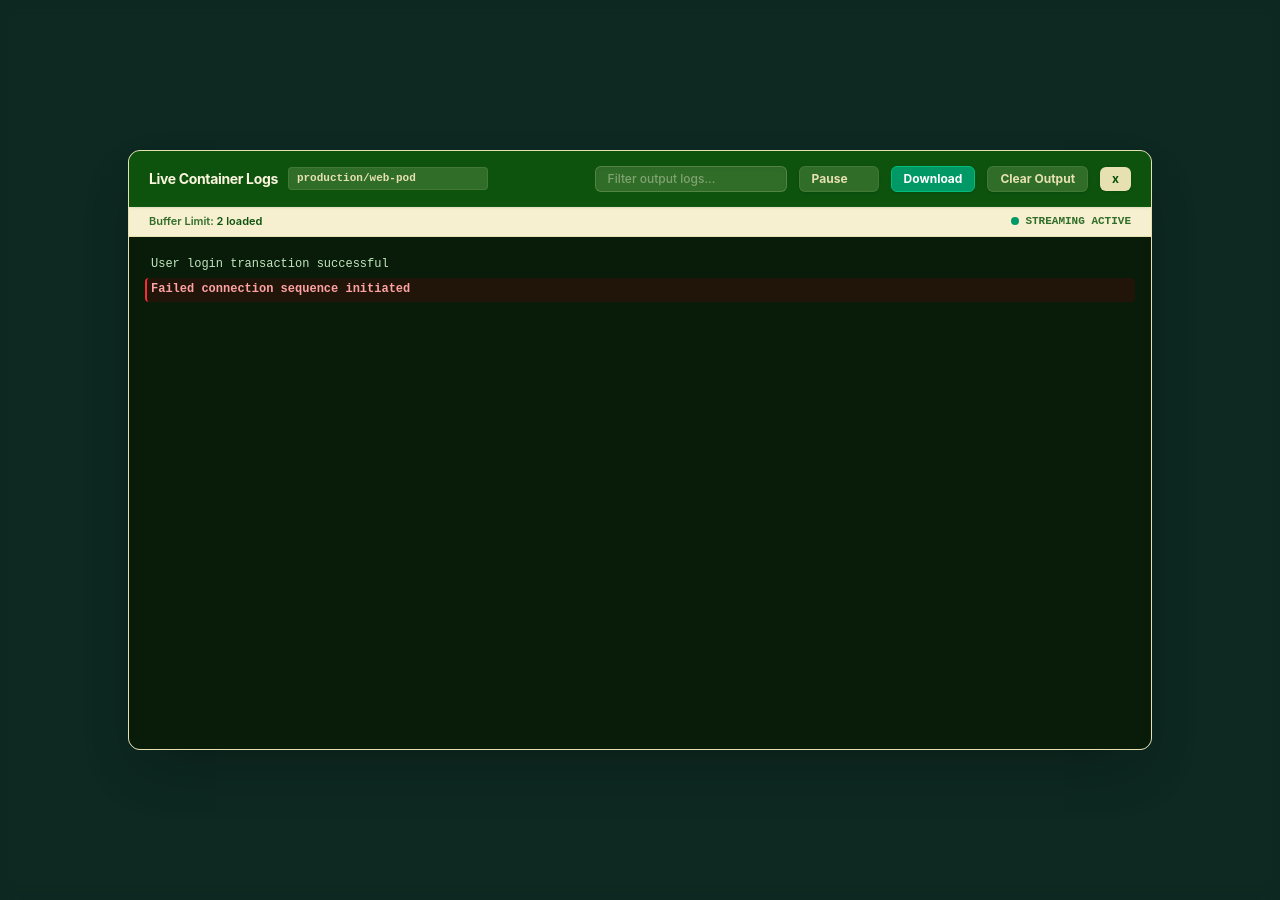
Scenario: LogStreamModal Component › filters logs, highlights keywords, and clears console state buffers
The width and height of the screenshot is (1280, 900).
// type filter phrase
Type "failed" into the field with placeholder "Filter output logs..." at (691, 179), box x1=595 y1=166 x2=787 y2=192
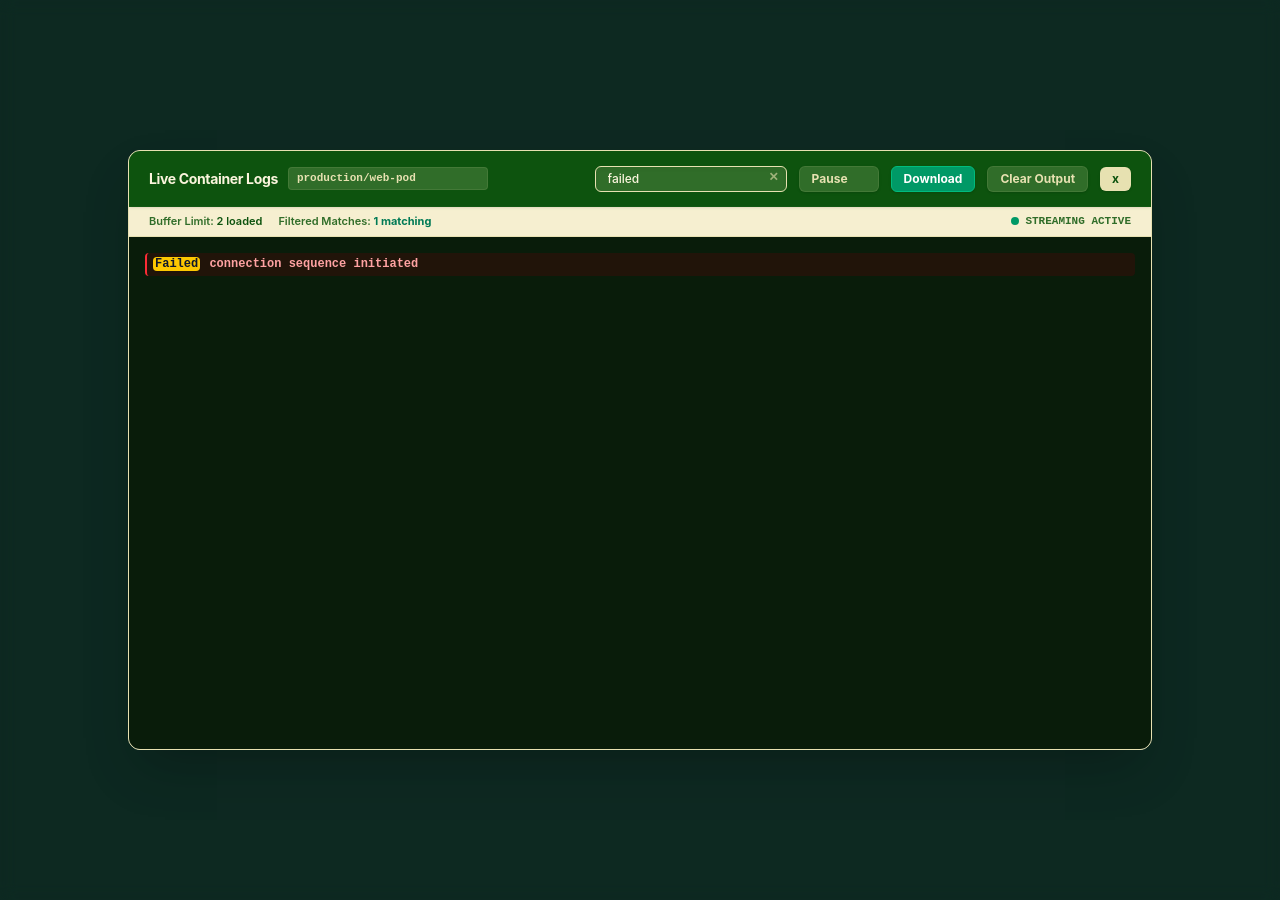
Expected: the text "User login transaction successful" is gone
// click Clear Output
Click the button "Clear Output" at (1038, 178), box x1=987 y1=166 x2=1088 y2=192
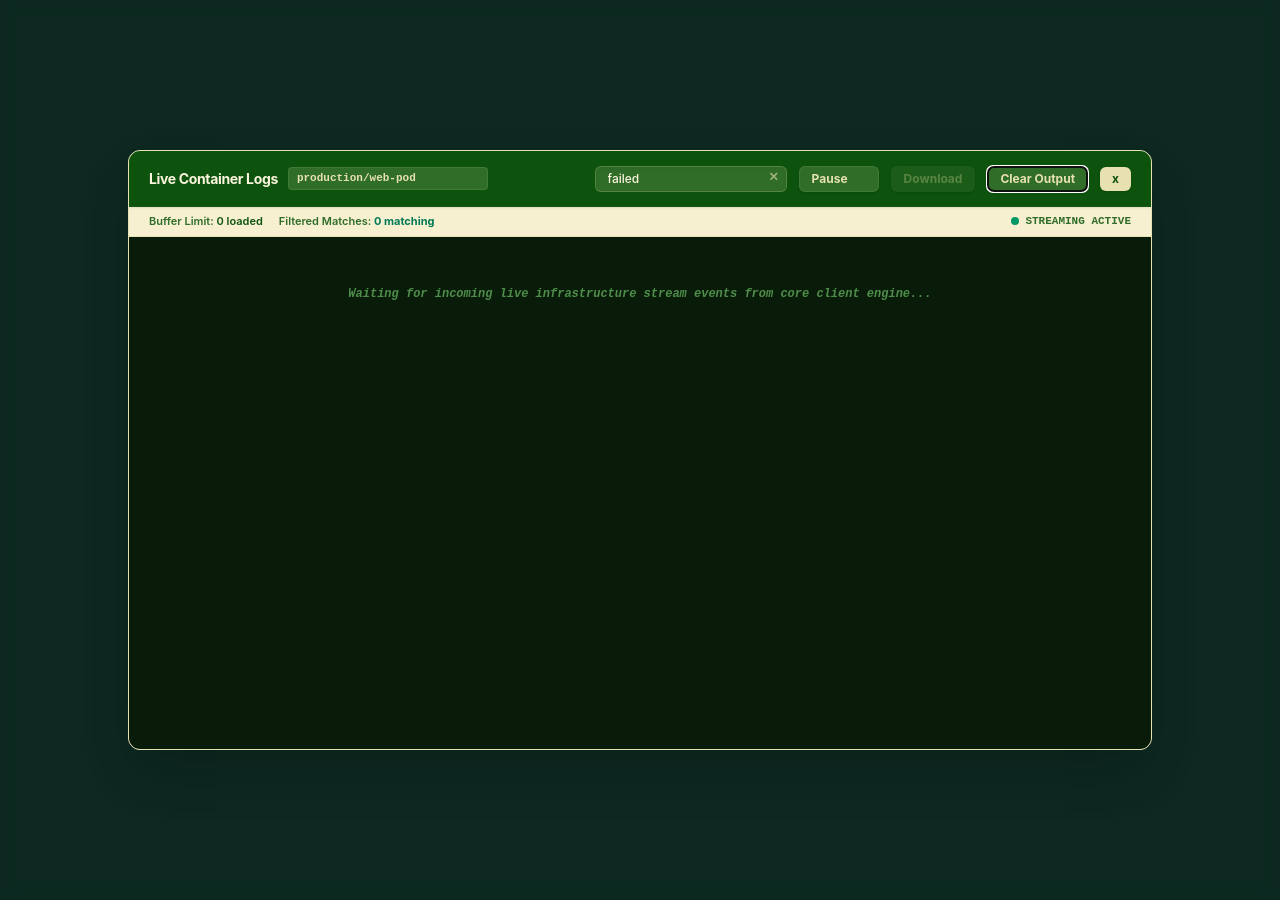
Expected: the text "Failed connection sequence" is not shown
Expected: the text "0 loaded" is shown, x1=216 y1=214 x2=263 y2=228
